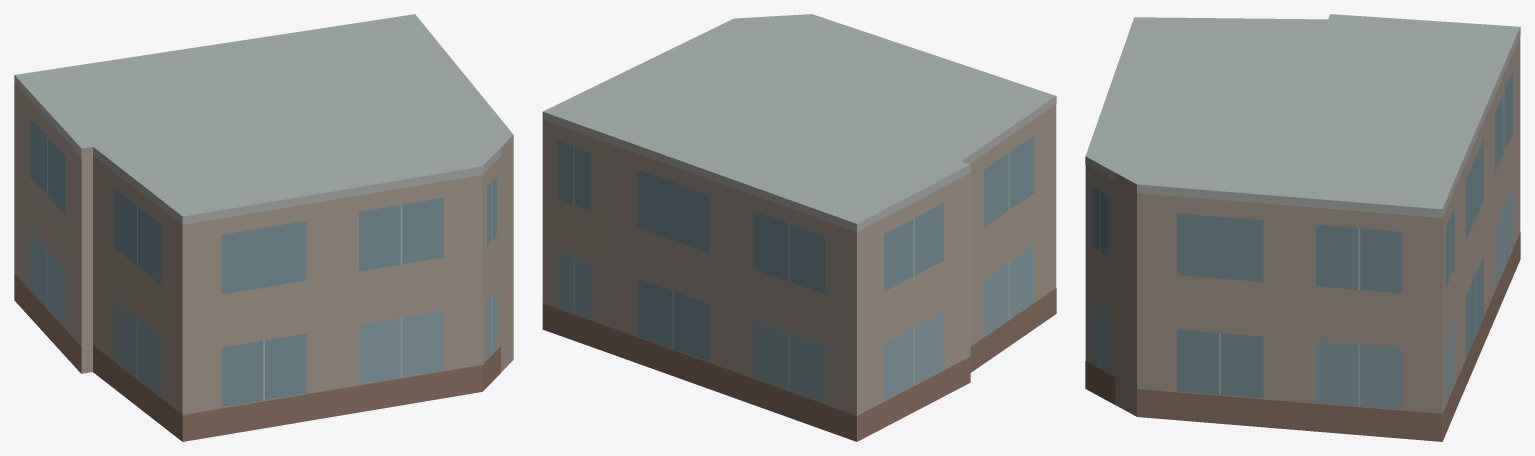
Rendered from survey-upis-32604351.glb.
The picture shows the model from 3 angles, left to right: view 1: azimuth 30°, elevation 25°; view 2: azimuth 150°, elevation 25°; view 3: azimuth 270°, elevation 25°; orthographic projection. The views are drawn at different scales.
Parts seen in each view (by area): view 1: survey-upis-32604351.tmp; view 2: survey-upis-32604351.tmp; view 3: survey-upis-32604351.tmp.
Boxes of the visible parts, bbox=[...] form: survey-upis-32604351.tmp: bbox=[14, 14, 513, 441]; survey-upis-32604351.tmp: bbox=[542, 14, 1056, 441]; survey-upis-32604351.tmp: bbox=[1085, 14, 1520, 441].
Bounding box in the file's own units: 11.73 × 6.5 × 11.04.
